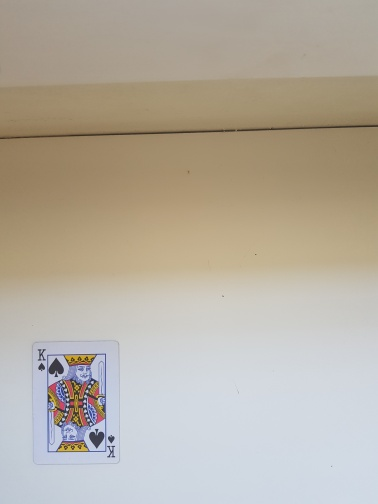king: (31, 339, 121, 467)
